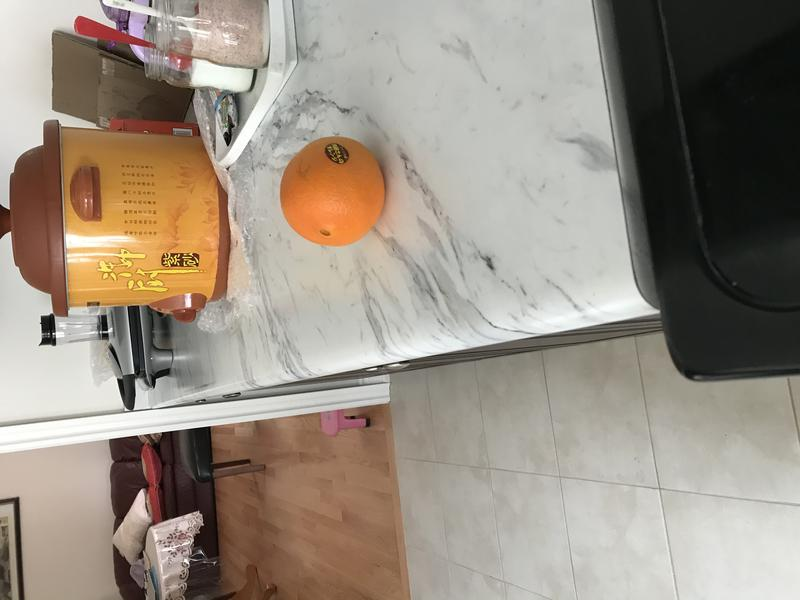orange: (276, 136, 394, 254)
